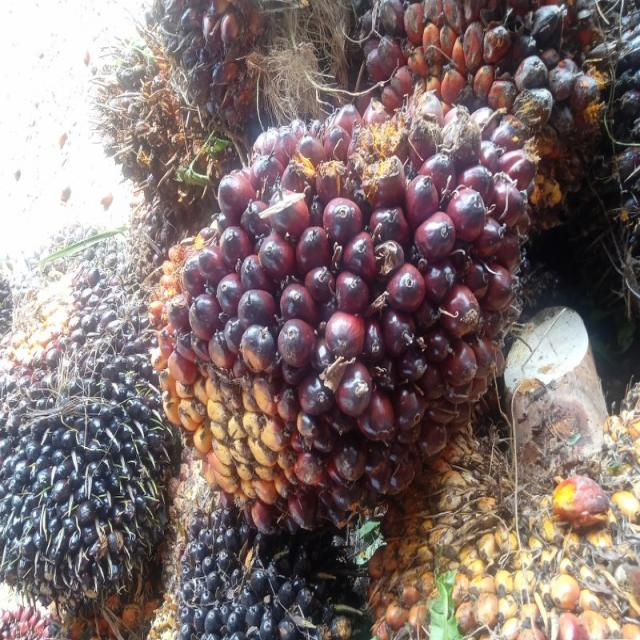fraksi 00: (0, 304, 177, 626)
fraksi 1: (126, 64, 523, 515)
